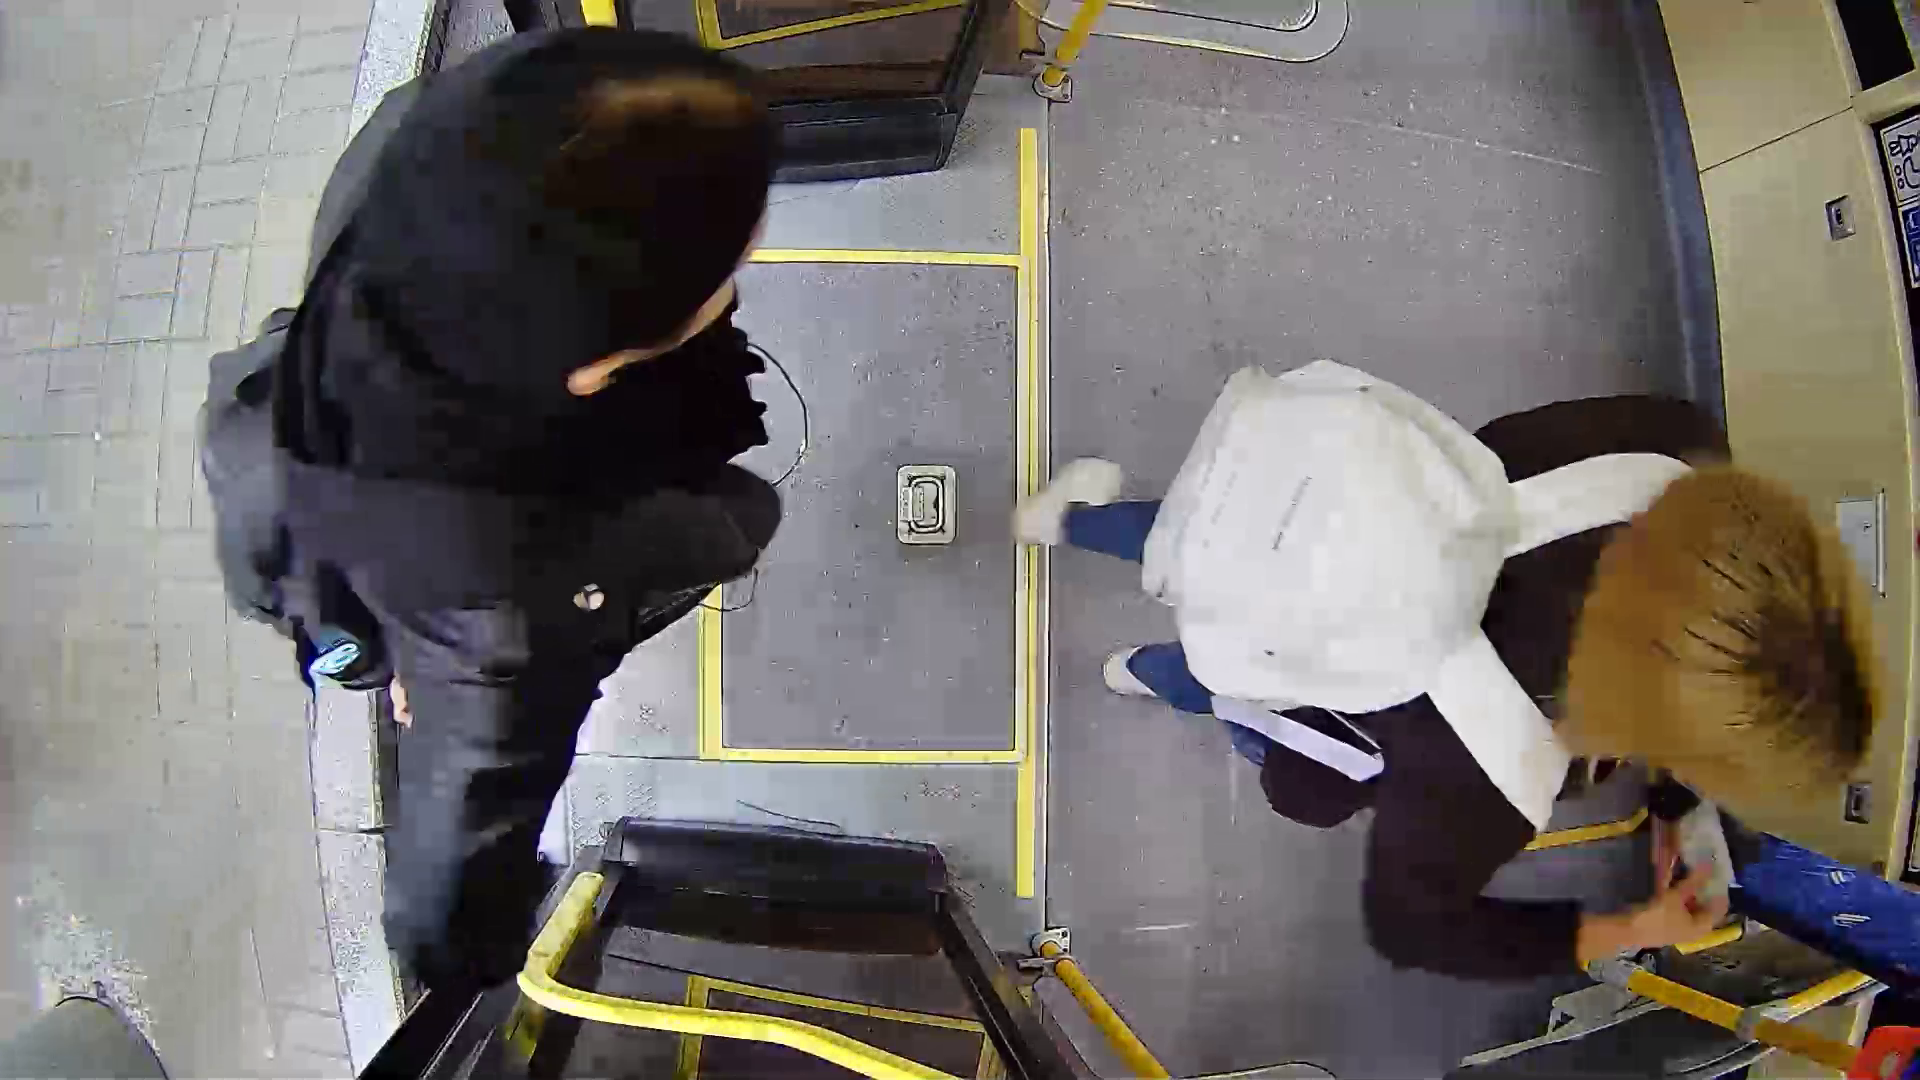person: (255, 9, 936, 897), (1095, 354, 1855, 983)
